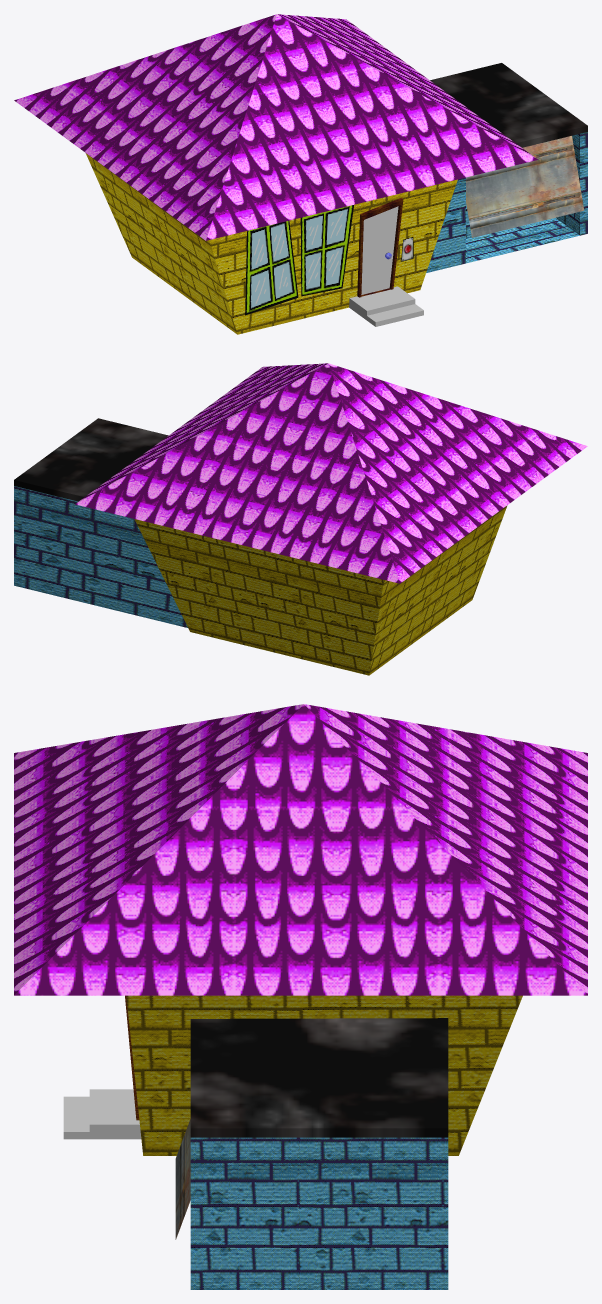
The model's file is House3.fbx.
3 views of the same model, one above another, from view 1: azimuth 30°, elevation 25°; view 2: azimuth 150°, elevation 25°; view 3: azimuth 270°, elevation 25° (orthographic). The views are drawn at different scales.
Visible parts, largest first — view 1: House 3, Garage, Plane.006, Plane, Steps; view 2: House 3, Garage; view 3: House 3, Garage, Steps.
Boxes of the visible parts, x1,y1,x2,y2 form: House 3: (14, 14, 537, 334); Garage: (426, 63, 587, 272); Plane.006: (245, 220, 298, 315); Plane: (300, 205, 353, 296); Steps: (349, 286, 423, 326); House 3: (75, 363, 587, 675); Garage: (14, 418, 187, 627); House 3: (14, 704, 587, 1155); Garage: (175, 1018, 448, 1289); Steps: (63, 1089, 141, 1139).
Bounding box in the file's own units: 92.69 × 51.9 × 69.85.
